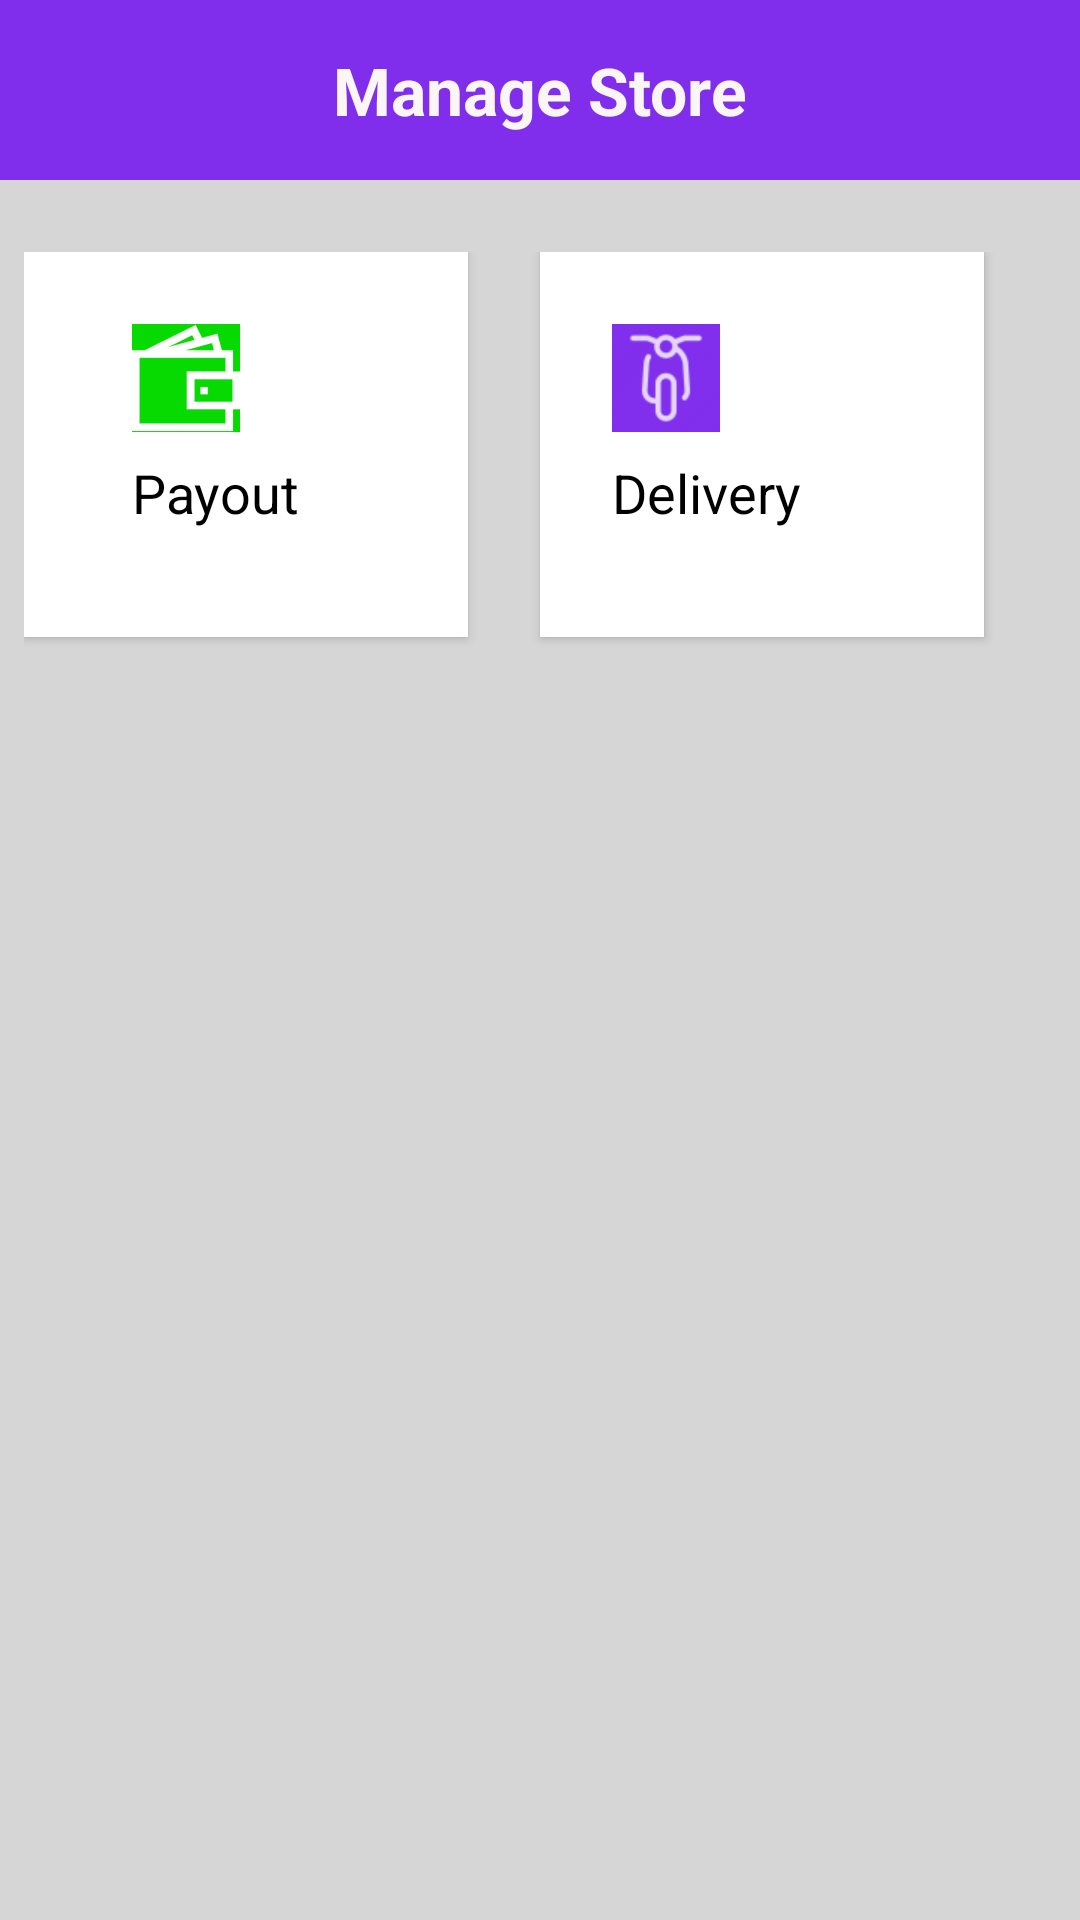

Named icons in this screenshot (1080px x 1920px) and their bounding boxes, rect(x1, y1, x2, y2):
wallet: rect(132, 324, 240, 432)
